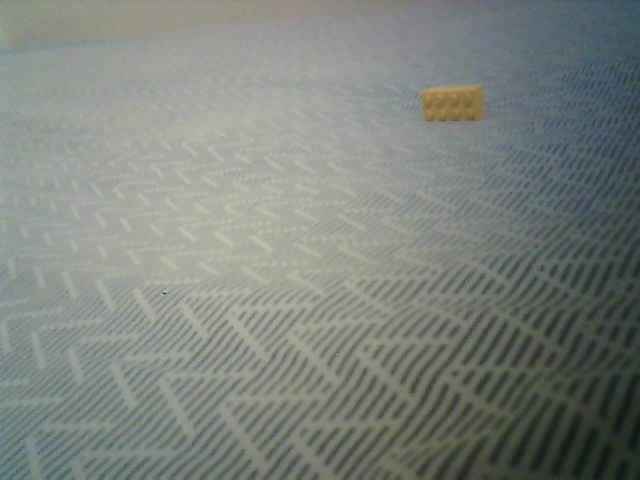lego: (419, 84, 486, 123)
